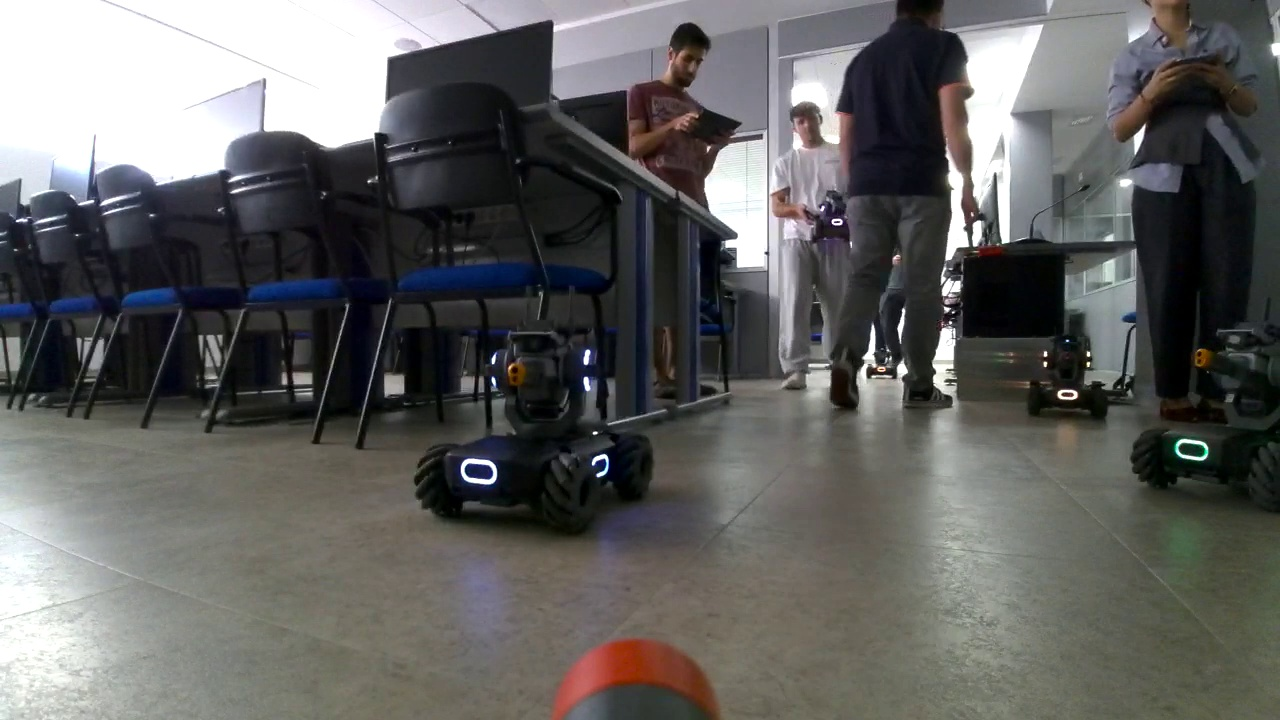robot: (415, 282, 656, 535), (1126, 298, 1280, 512), (1027, 332, 1109, 417), (810, 188, 853, 246), (866, 347, 897, 379)
